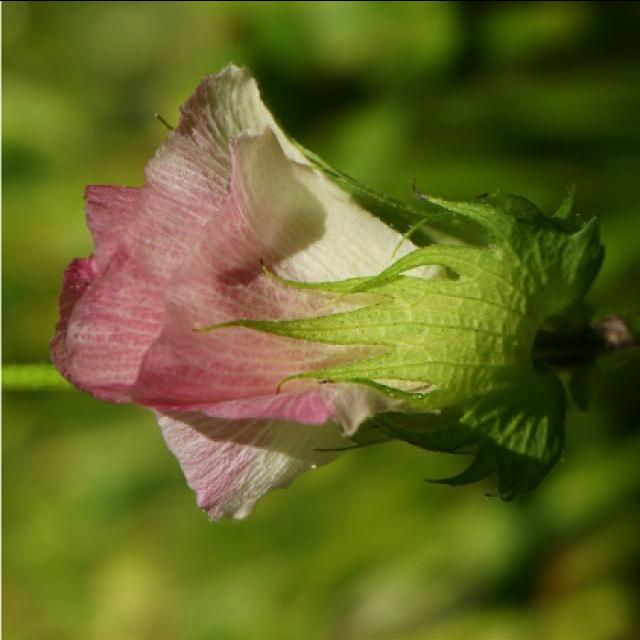Cotton Blossom: (56, 118, 605, 511)
